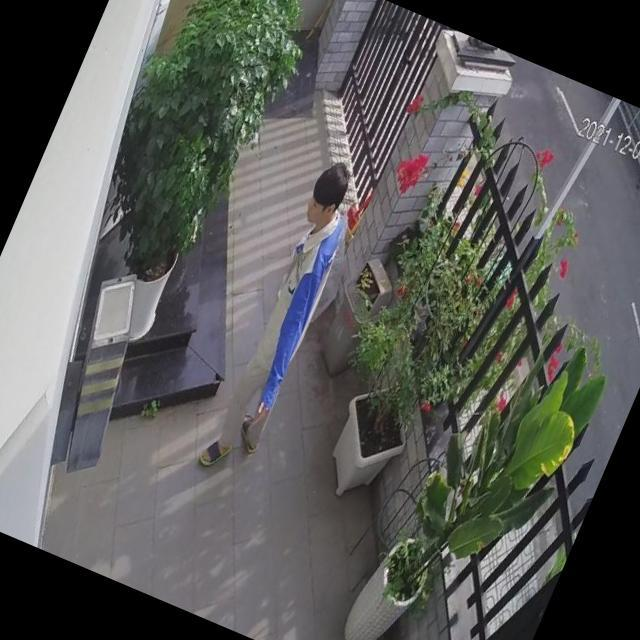person: (198, 158, 372, 482)
